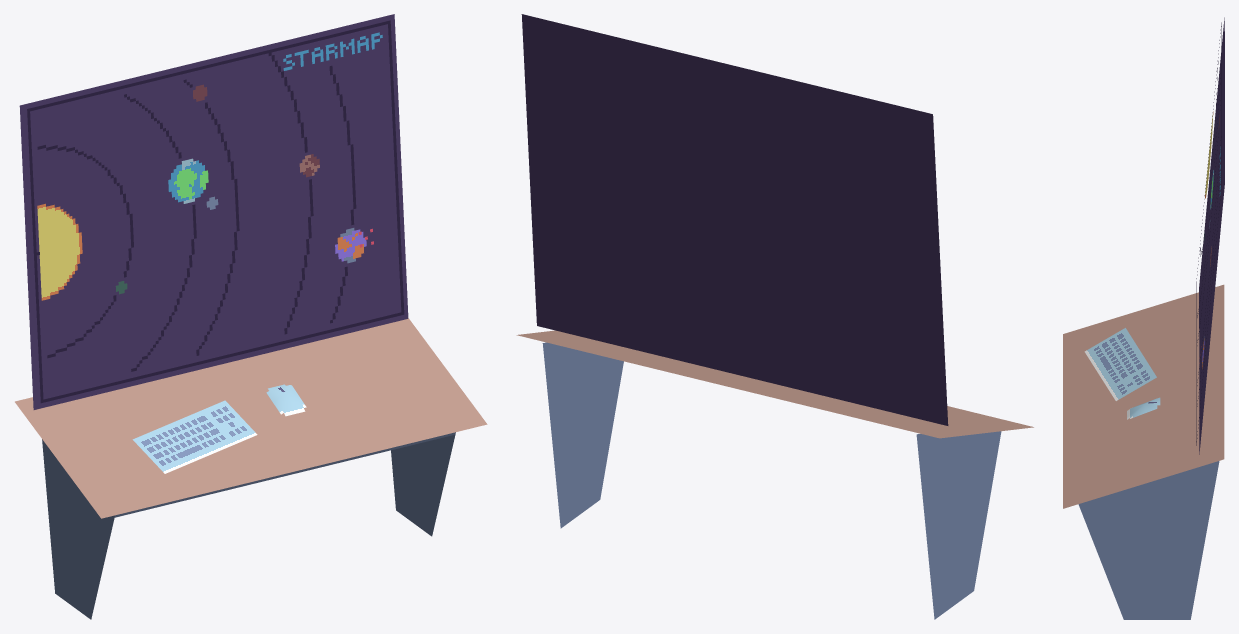
File: computer.gltf
3 views of the same model, side by side, from view 1: azimuth 30°, elevation 25°; view 2: azimuth 150°, elevation 25°; view 3: azimuth 270°, elevation 25° (orthographic). The views are drawn at different scales.
Parts seen in each view (by area): view 1: computer, starmap; view 2: computer; view 3: computer, starmap.
Part boxes in pixels (x1,y1,x2,y2): computer: (15, 14, 487, 619); starmap: (27, 20, 404, 403); computer: (516, 14, 1033, 619); computer: (1063, 17, 1224, 619); starmap: (1196, 22, 1221, 445).
Size of the model in its own units: 2.12 by 2.52 by 0.8321.
2 materials, 2 textured.
